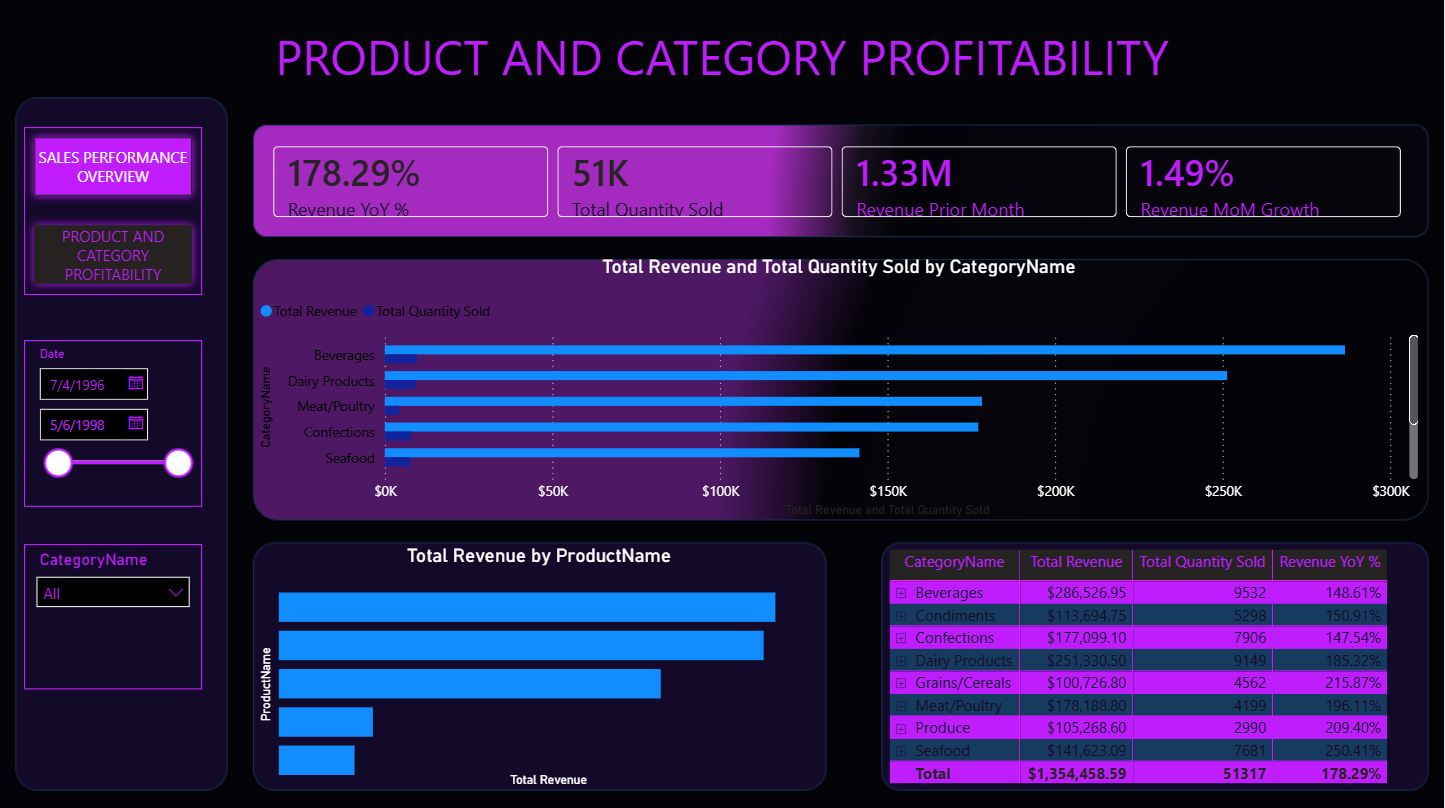

This screenshot's page, from the dashboard's own definition file:
{"tool":"powerbi","page":{"name":"PRODUCT AND CATEGORY PROFITABILITY","canvas":[1280,720],"ordinal":1},"visuals":[{"type":"pivotTable","fields":{"Rows":["Categories.CategoryName","Products.ProductName"],"Values":["_Measures.Total Revenue","_Measures.Total Quantity Sold","_Measures.Revenue YoY %"]},"box":[783.8,484.1,478.8,219.9],"z":0},{"type":"cardVisual","fields":{"Data":["_Measures.Revenue YoY %","_Measures.Total Quantity Sold","_Measures.Revenue Prior Month","_Measures.Revenue MoM Growth"]},"box":[225.2,114.4,1037.4,97.5],"z":1000},{"type":"textbox","box":[0,0,1280,82.7],"z":2000},{"type":"clusteredBarChart","fields":{"Category":["Products.ProductName"],"Y":["_Measures.Total Revenue"]},"box":[225.2,484.1,505.4,219.9],"z":3000},{"type":"clusteredBarChart","fields":{"Category":["Categories.CategoryName"],"Y":["_Measures.Total Revenue","_Measures.Total Quantity Sold"]},"box":[225.2,227.9,1037.4,236.7],"z":4000},{"type":"slicer","fields":{"Values":["Categories.CategoryName"]},"box":[21.3,484.1,158.2,129.1],"z":5000},{"type":"slicer","fields":{"Values":["DimDate.Date"]},"box":[21.3,303.3,158.2,148.2],"z":6000},{"type":"pageNavigator","box":[21.3,114.4,158.2,149.1],"z":7000}]}

Visuals, with their boxes in screenshot pixels (x1, y1, x2, y2), scaled from the page's 1280x720 canvas onto the 1445x808 screenshot:
pivotTable - Categories.CategoryName x Products.ProductName: bbox=(885, 543, 1425, 790)
cardVisual - _Measures.Revenue YoY % x _Measures.Total Quantity Sold: bbox=(254, 128, 1425, 238)
textbox: bbox=(0, 0, 1444, 93)
clusteredBarChart - Products.ProductName x _Measures.Total Revenue: bbox=(254, 543, 825, 790)
clusteredBarChart - Categories.CategoryName x _Measures.Total Revenue: bbox=(254, 256, 1425, 521)
slicer - Categories.CategoryName: bbox=(24, 543, 203, 688)
slicer - DimDate.Date: bbox=(24, 340, 203, 507)
pageNavigator: bbox=(24, 128, 203, 296)
